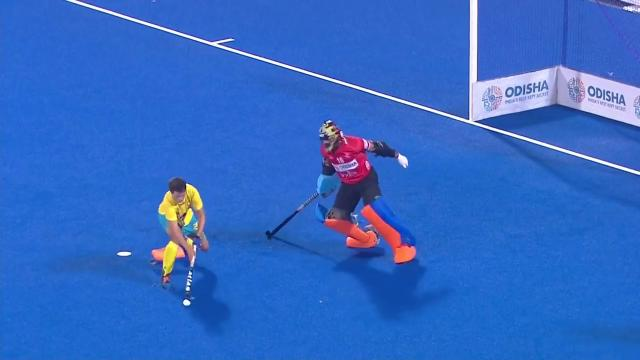ball: (176, 290, 201, 315)
